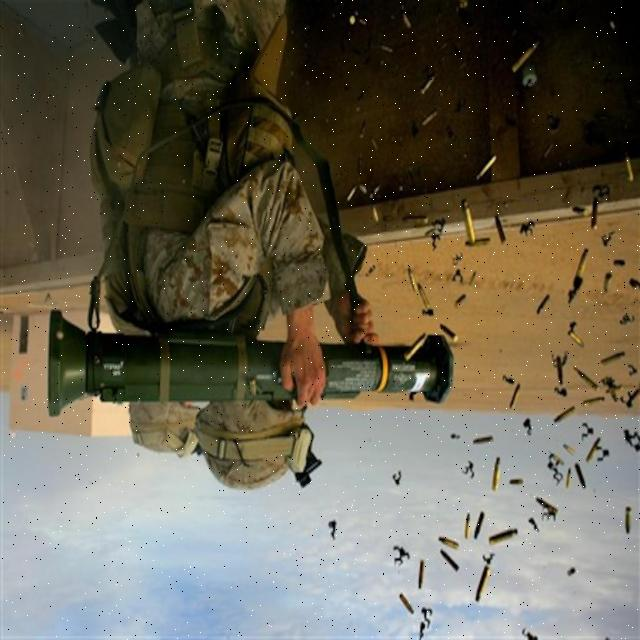bazooka: (36, 302, 460, 424)
